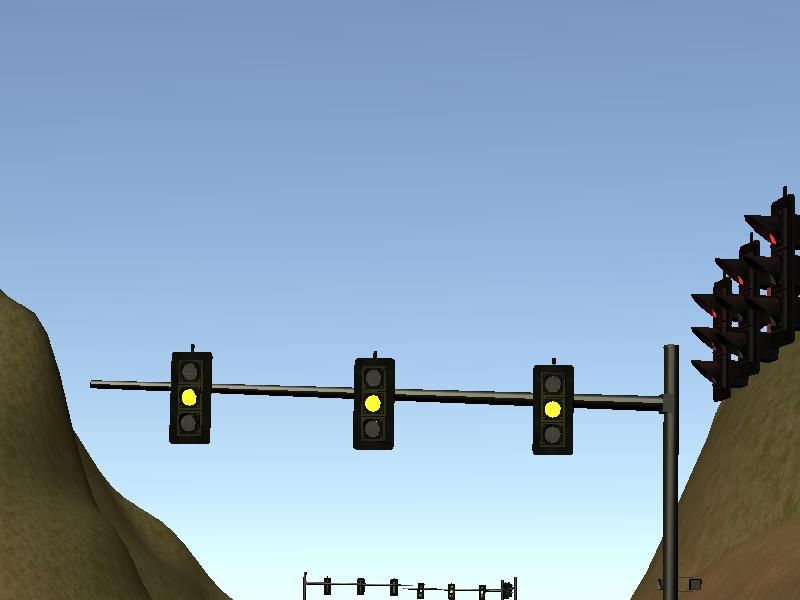YELLOW: (531, 363, 576, 456), (167, 352, 211, 445), (351, 358, 395, 451)
